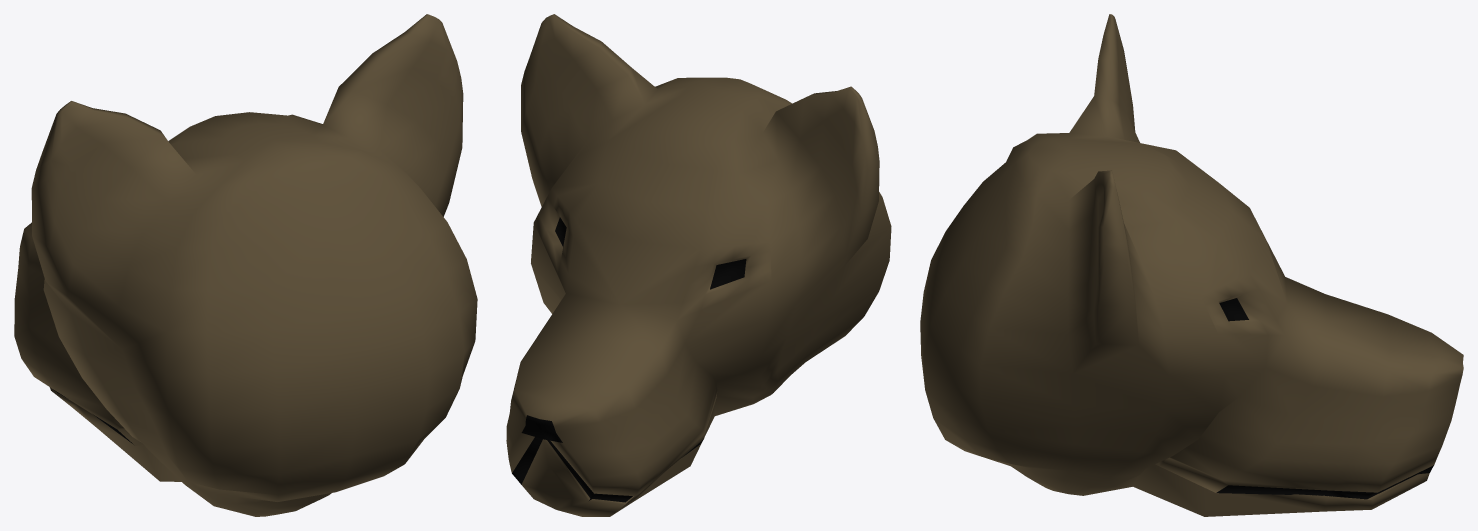
File: CricketHead.fbx
3 views of the same model, side by side, from view 1: azimuth 30°, elevation 25°; view 2: azimuth 150°, elevation 25°; view 3: azimuth 270°, elevation 25° (orthographic). The views are drawn at different scales.
Parts seen in each view (by area): view 1: Sphere; view 2: Sphere; view 3: Sphere.
Boxes of the visible parts, x1,y1,x2,y2 form: Sphere: [14, 14, 477, 516]; Sphere: [506, 14, 891, 516]; Sphere: [920, 14, 1463, 516].
Bounding box in the file's own units: 727 × 767 × 904.
